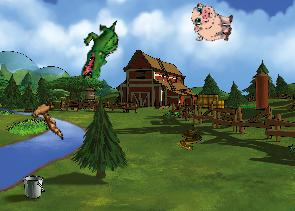crocodile: (80, 19, 119, 80)
eagle: (18, 91, 74, 140)
pig: (188, 1, 235, 45)
